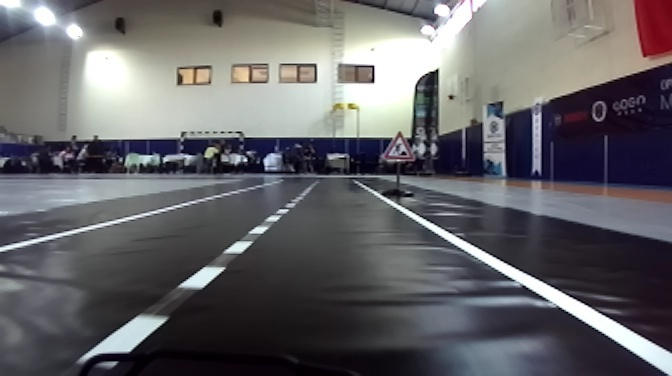yol_yapimi: (380, 124, 416, 161)
